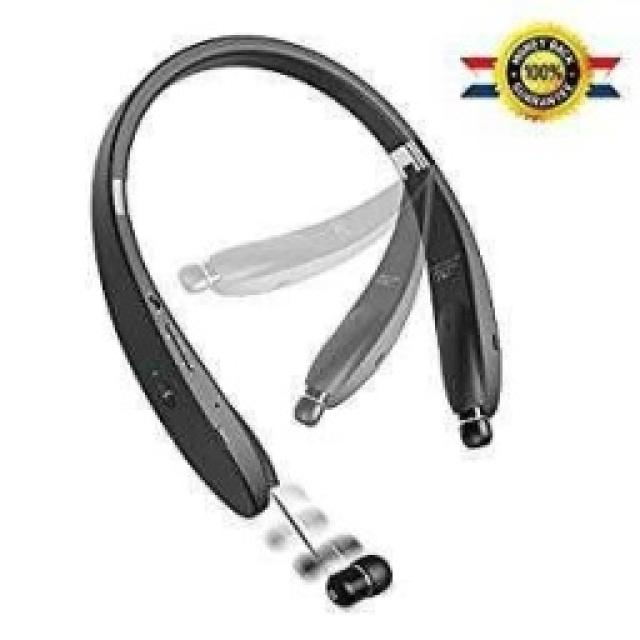headphones: (88, 30, 502, 605)
